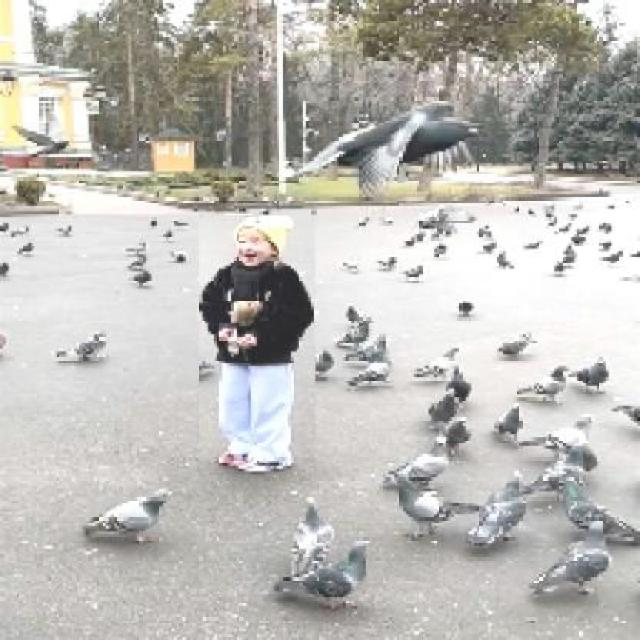child: (198, 215, 316, 474)
